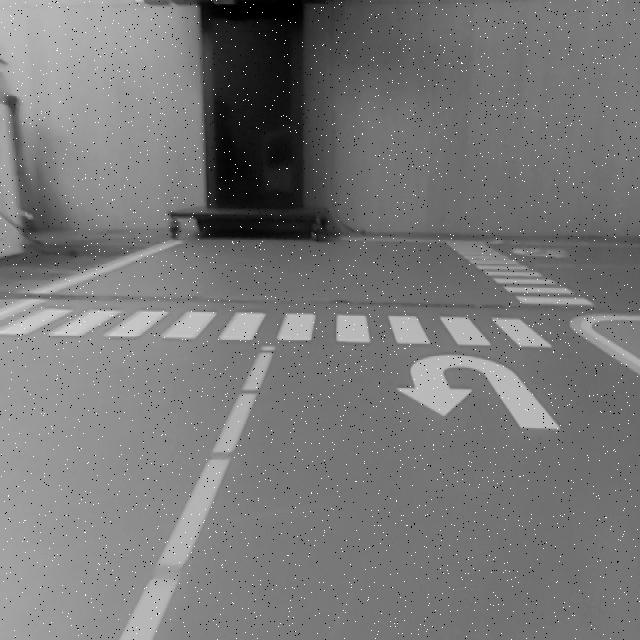left_lane: (120, 344, 276, 640)
right_lane: (567, 319, 640, 374)
